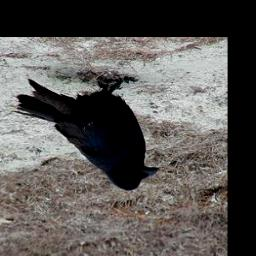Crow: (14, 75, 158, 193)
